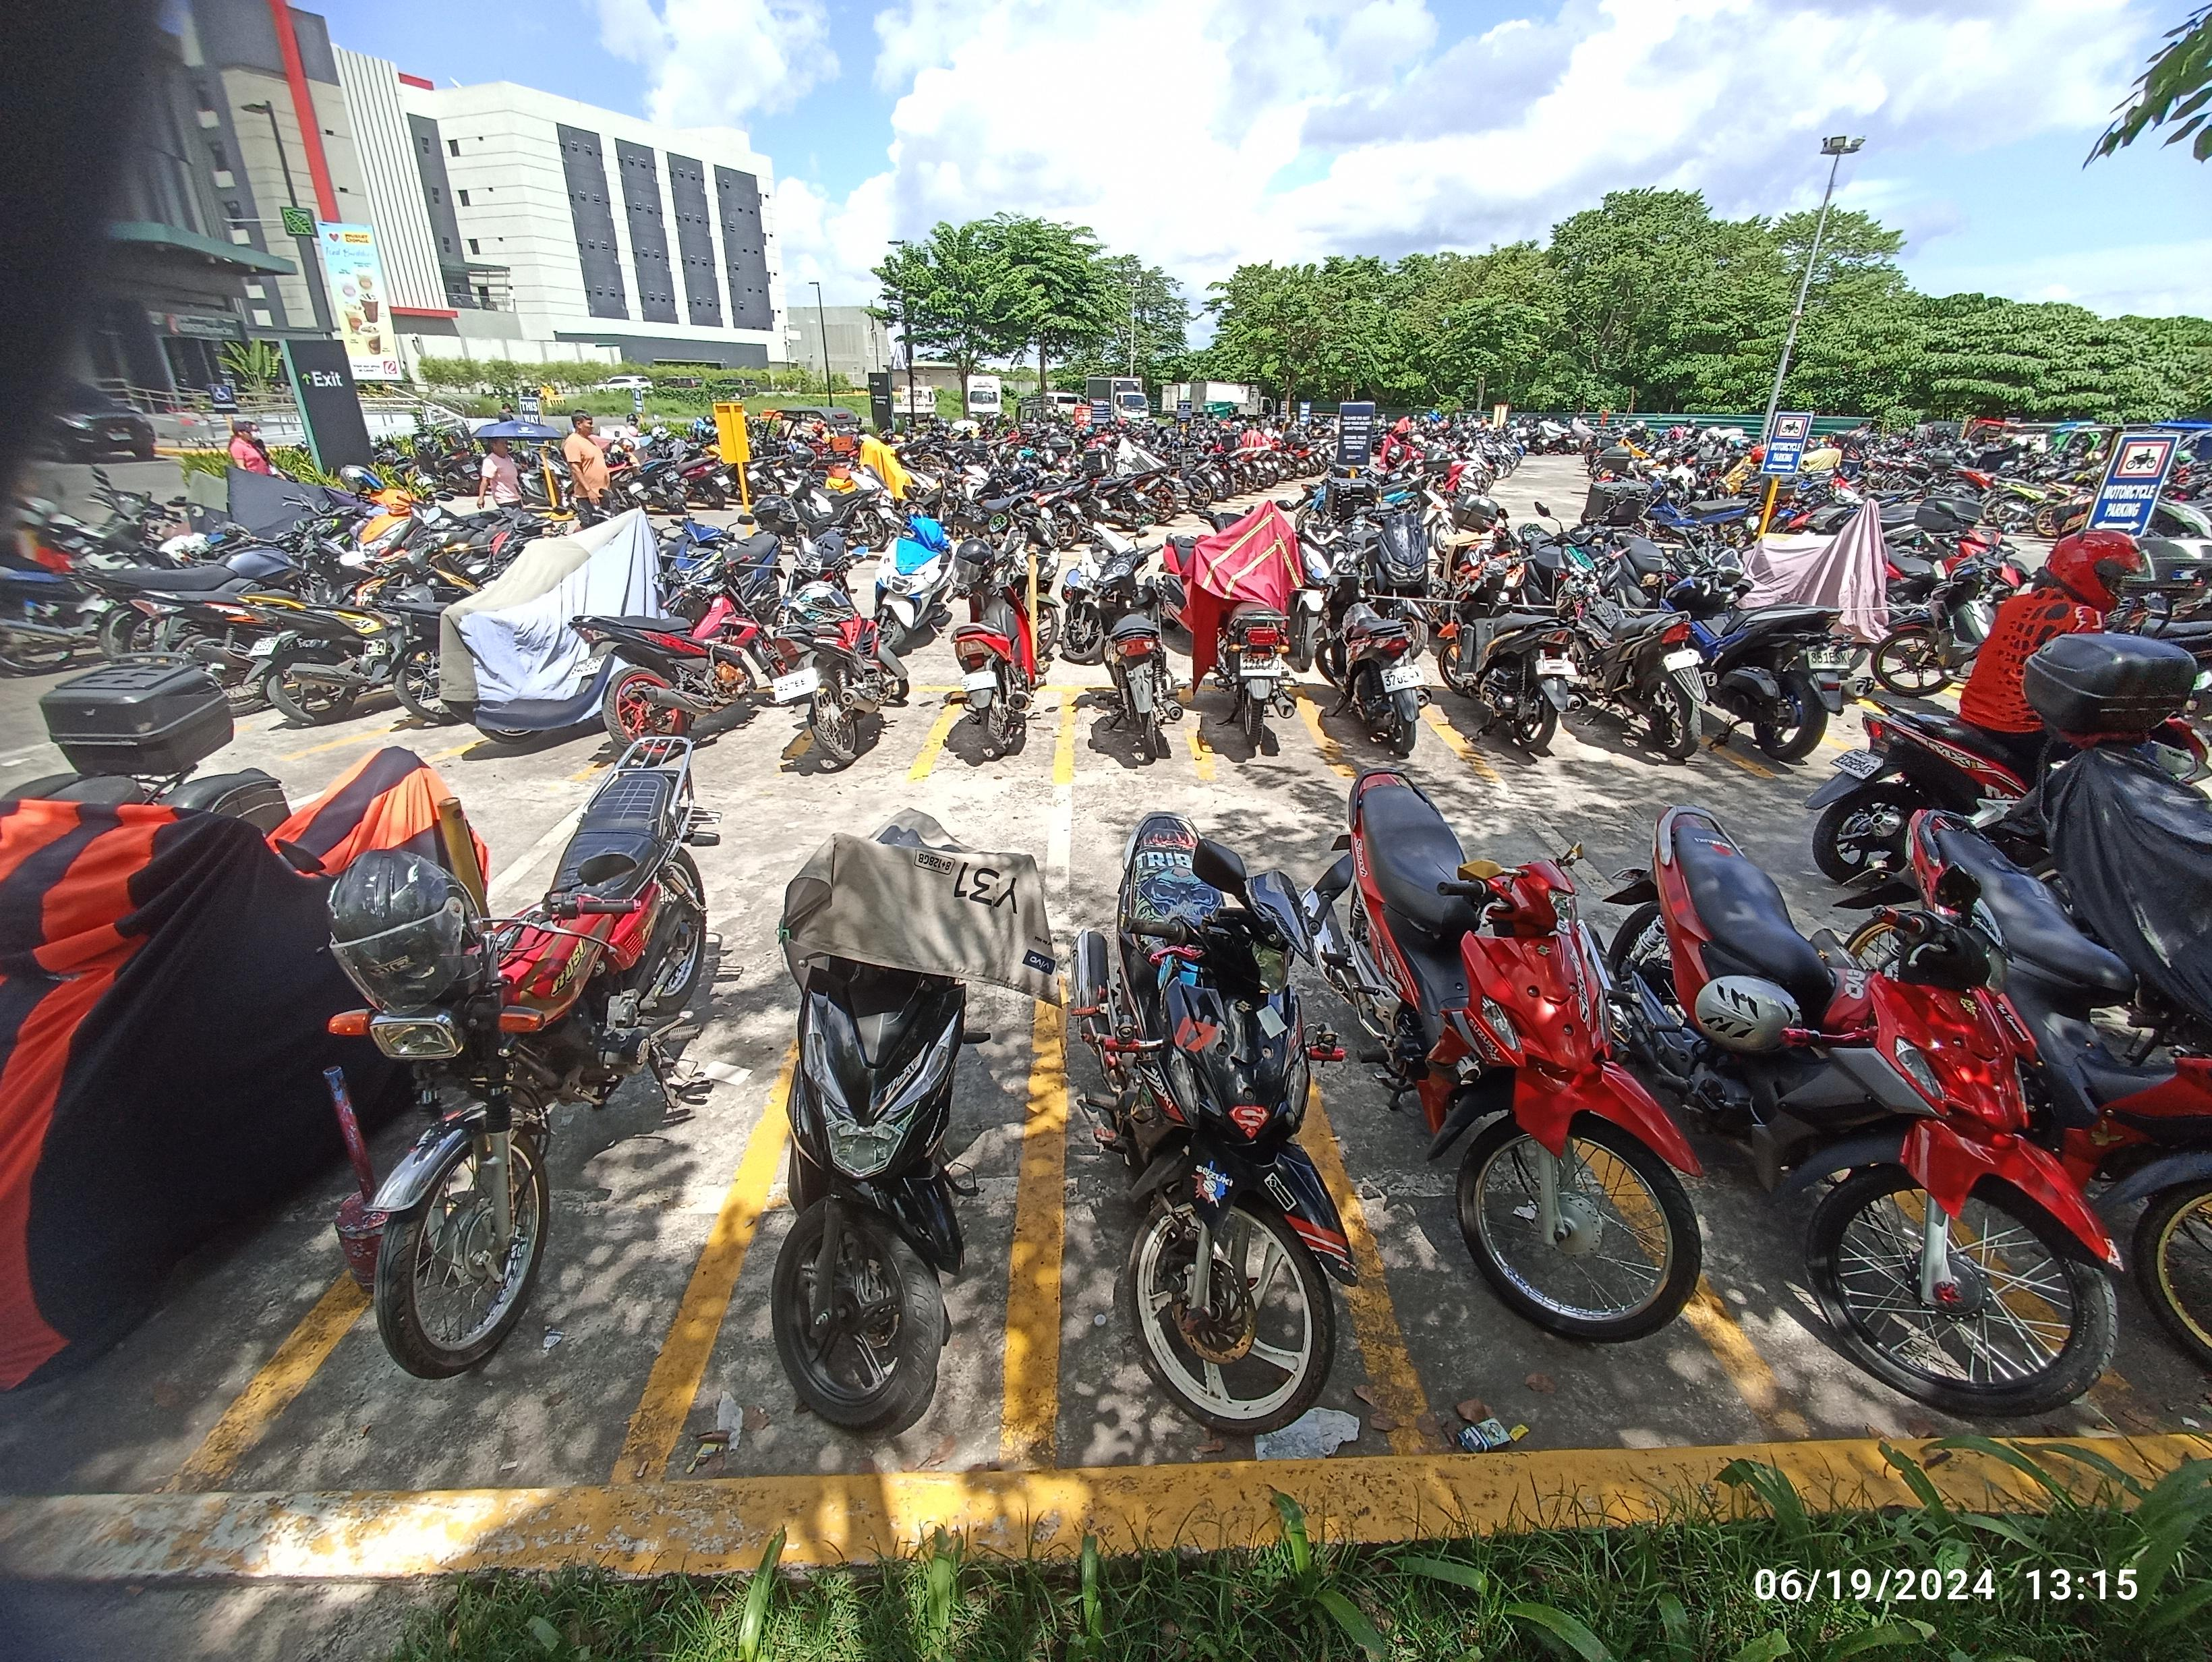occupied: (105, 1040, 815, 1573), (573, 988, 1072, 1575), (1287, 1082, 1863, 1533), (992, 1000, 1461, 1550), (1285, 684, 1510, 784), (770, 683, 978, 777), (1189, 686, 1346, 779), (918, 690, 1070, 784), (1065, 686, 1206, 784)
